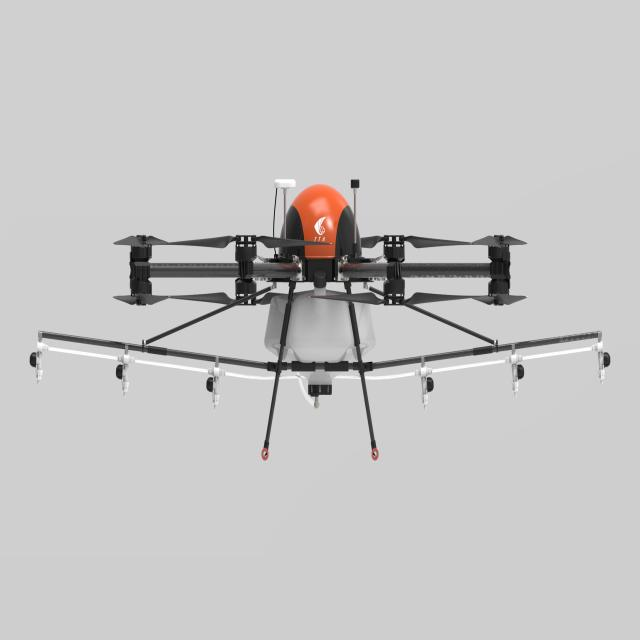drone: (46, 177, 640, 460)
